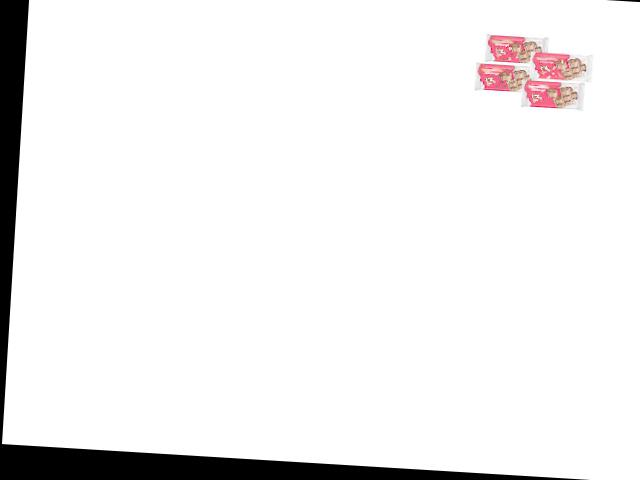chocolate: (479, 30, 552, 70)
